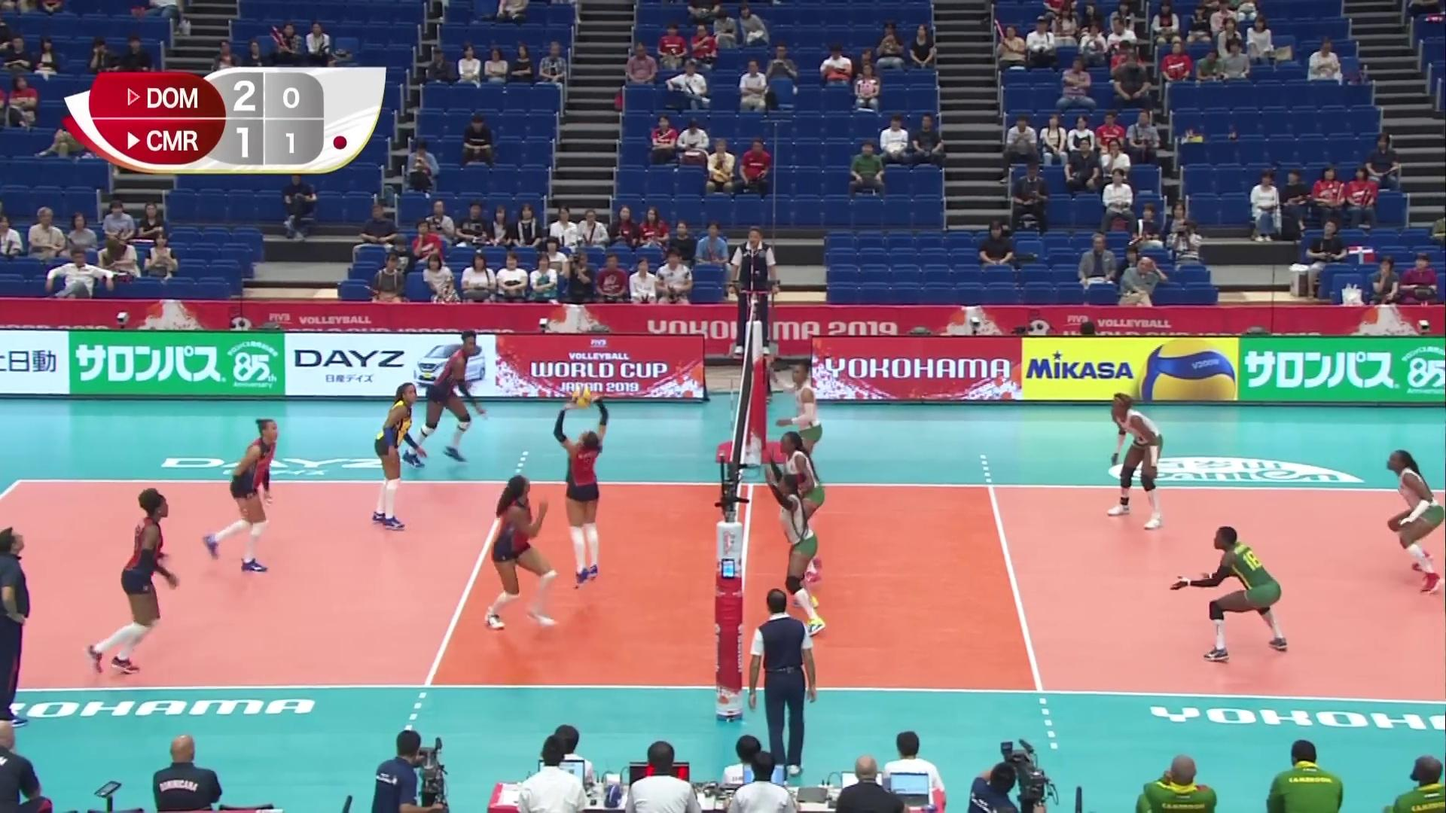player: (94, 488, 184, 673), (1171, 530, 1297, 659), (476, 474, 564, 630), (200, 420, 278, 575), (551, 409, 615, 587), (372, 381, 441, 529), (765, 357, 826, 513), (766, 430, 824, 585), (422, 334, 489, 467), (771, 471, 826, 630), (1105, 392, 1169, 528), (1387, 455, 1446, 593)
refree: (748, 590, 817, 777), (733, 230, 776, 354)
